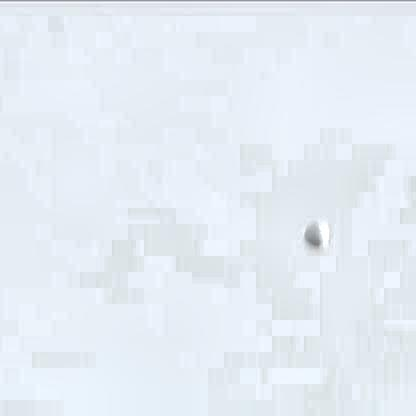golfball: (300, 214, 328, 245)
